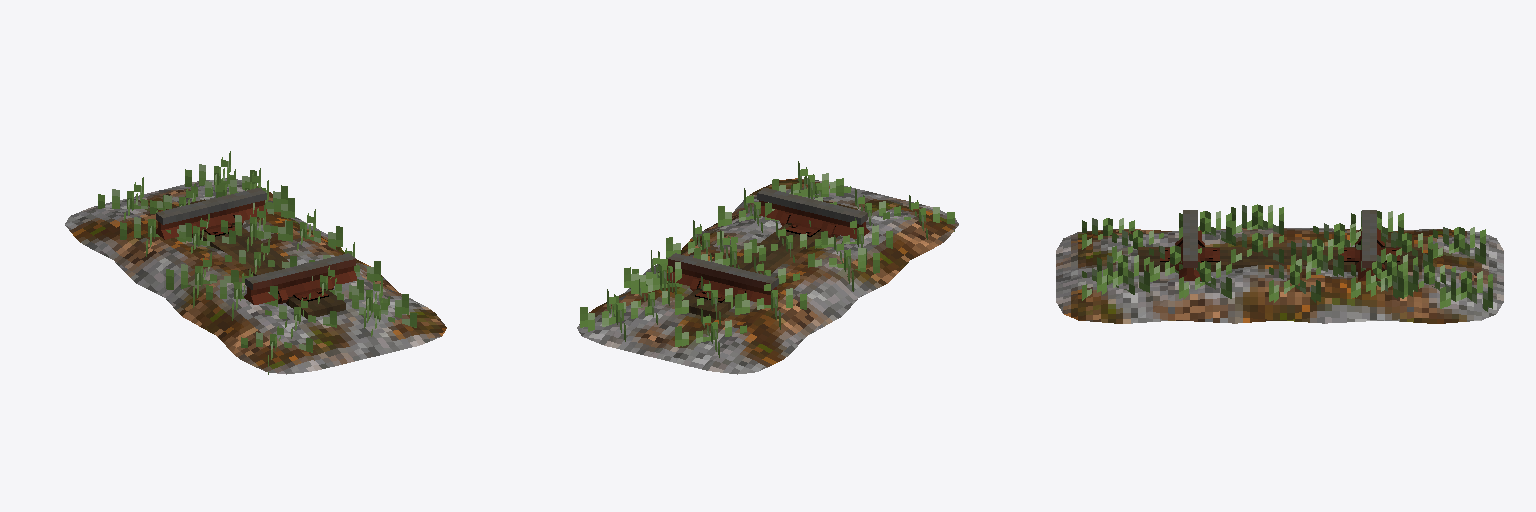
3 views of the same model, side by side, from view 1: azimuth 30°, elevation 25°; view 2: azimuth 150°, elevation 25°; view 3: azimuth 270°, elevation 25° (orthographic).
Visible parts, largest first — view 1: RAIL_BASE.001_Plane.011, RAIL_BASE.003_Plane.014, RAIL_BASE_Cube_Cube.001, RAIL_LEFT_Cube_Cube.001, RAIL_RIGHT_Cube_Cube.003; view 2: RAIL_BASE.001_Plane.011, RAIL_BASE.003_Plane.014, RAIL_BASE_Cube_Cube.001, RAIL_LEFT_Cube_Cube.001, RAIL_RIGHT_Cube_Cube.003; view 3: RAIL_BASE.001_Plane.011, RAIL_BASE.003_Plane.014, RAIL_BASE_Cube_Cube.001, RAIL_LEFT_Cube_Cube.001, RAIL_RIGHT_Cube_Cube.003.
Part boxes in pixels (x1,y1,x2,y2): RAIL_BASE.001_Plane.011: (65,178,446,374); RAIL_BASE.003_Plane.014: (98,151,416,374); RAIL_BASE_Cube_Cube.001: (166,199,345,318); RAIL_LEFT_Cube_Cube.001: (244,253,356,304); RAIL_RIGHT_Cube_Cube.003: (156,188,267,239); RAIL_BASE.001_Plane.011: (577,178,958,374); RAIL_BASE.003_Plane.014: (580,161,954,357); RAIL_BASE_Cube_Cube.001: (682,200,857,318); RAIL_LEFT_Cube_Cube.001: (757,188,869,238); RAIL_RIGHT_Cube_Cube.003: (667,253,779,304); RAIL_BASE.001_Plane.011: (1056,228,1503,323); RAIL_BASE.003_Plane.014: (1082,204,1492,311); RAIL_BASE_Cube_Cube.001: (1138,237,1421,271); RAIL_LEFT_Cube_Cube.001: (1179,210,1201,280); RAIL_RIGHT_Cube_Cube.003: (1358,210,1380,280).
Size of the model in its own units: 1.88 by 0.5 by 3.75.
Materials: 5 (3 with a texture image).